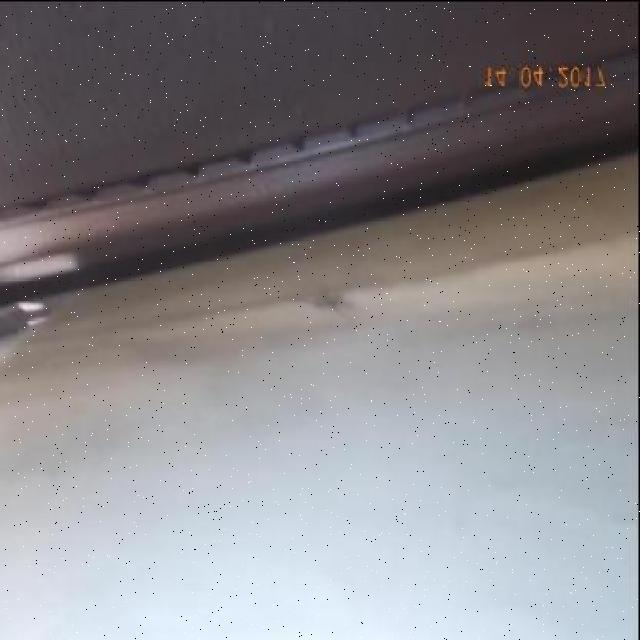damage: (297, 271, 372, 327)
